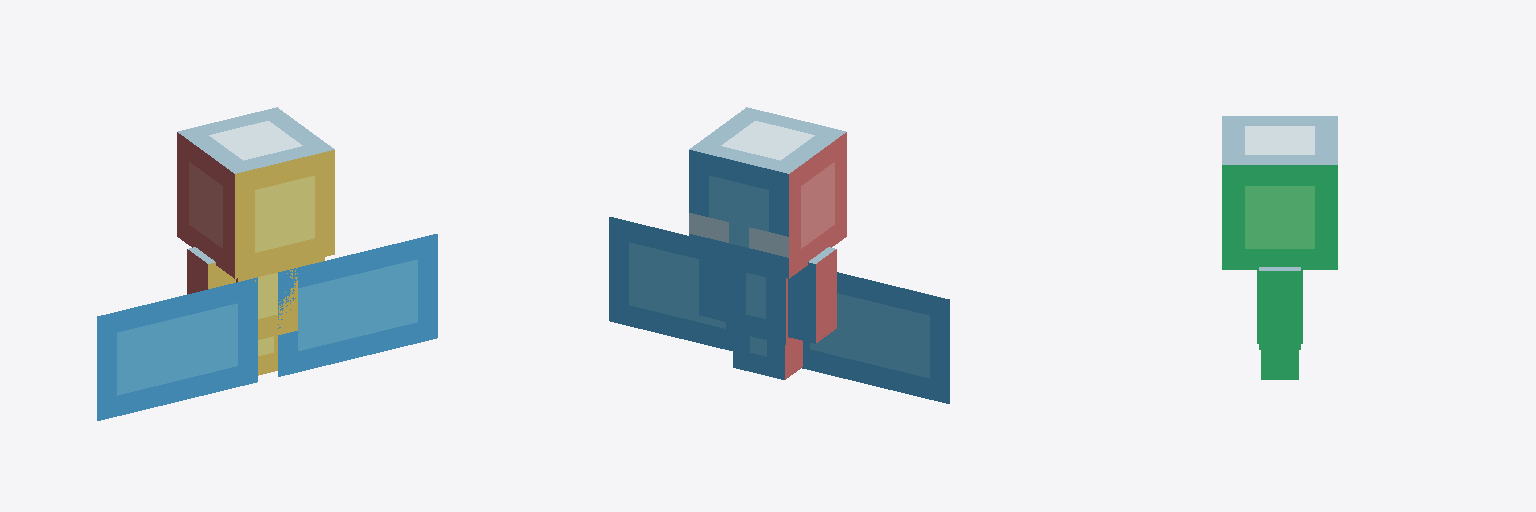
3 renders of one model, left to right at view 1: azimuth 30°, elevation 25°; view 2: azimuth 150°, elevation 25°; view 3: azimuth 270°, elevation 25°, orthographic.
Parts seen in each view (by area): view 1: head, leftWing, rightWing, body, leftArm; view 2: head, leftWing, rightWing, body, leftArm, rightArm; view 3: head, rightArm, body.
Part boxes in pixels (x1,y1,x2,y2): head: (177,107,334,278); leftWing: (97,277,257,420); rightWing: (278,234,437,376); body: (236,264,297,375); leftArm: (187,247,235,294); head: (689,107,846,278); leftWing: (802,272,949,403); rightWing: (609,217,732,350); body: (726,264,802,379); leftArm: (788,247,836,343); rightArm: (699,257,725,321); head: (1222,116,1337,269); rightArm: (1259,267,1300,349); body: (1257,270,1302,379).
Bounding box in the file's own units: 1.06 × 0.6875 × 0.3125.
Materials: 1 (1 with a texture image).